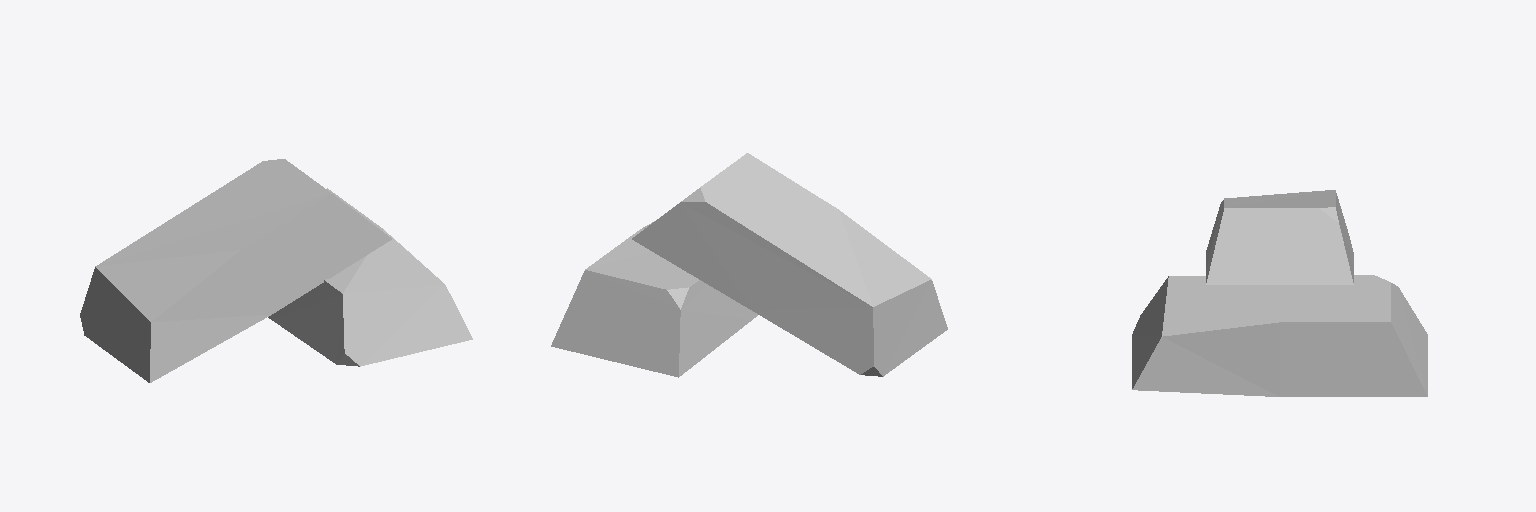
Rendered from Gold-04.obj.
The picture shows the model from 3 angles: view 1: azimuth 30°, elevation 25°; view 2: azimuth 150°, elevation 25°; view 3: azimuth 270°, elevation 25°; orthographic projection.
Parts seen in each view (by area): view 1: Gold_04; view 2: Gold_04; view 3: Gold_04.
Part boxes in pixels (x1,y1,x2,y2): Gold_04: (80, 159, 472, 382); Gold_04: (551, 153, 947, 377); Gold_04: (1132, 190, 1427, 396).
Bounding box in the file's own units: 0.1678 × 0.0797 × 0.15.